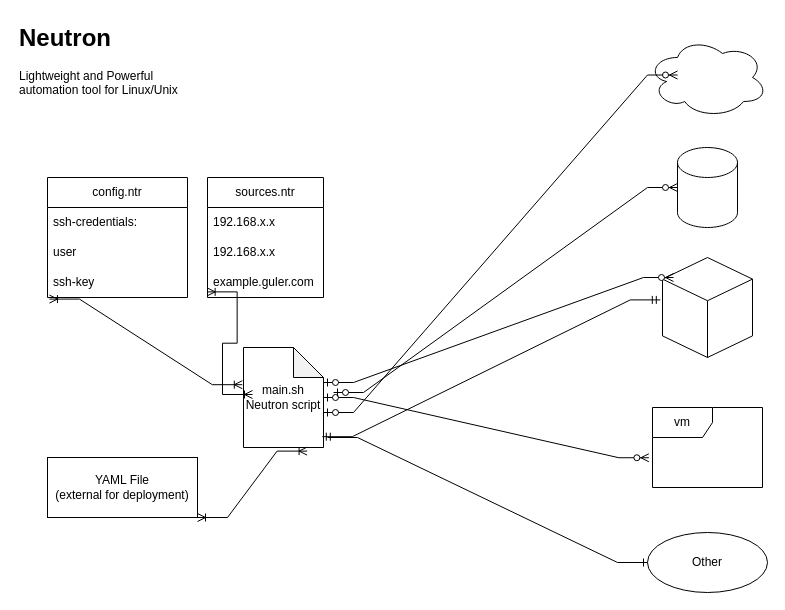
Image size: 785x610. Some labels were removed from this diagram. Here are the shapes that lost their labels. From the top down, the box of each, then its label:
(646, 36, 768, 118): Cloud Servers
(676, 146, 738, 228): DB
(662, 256, 752, 358): Containers
